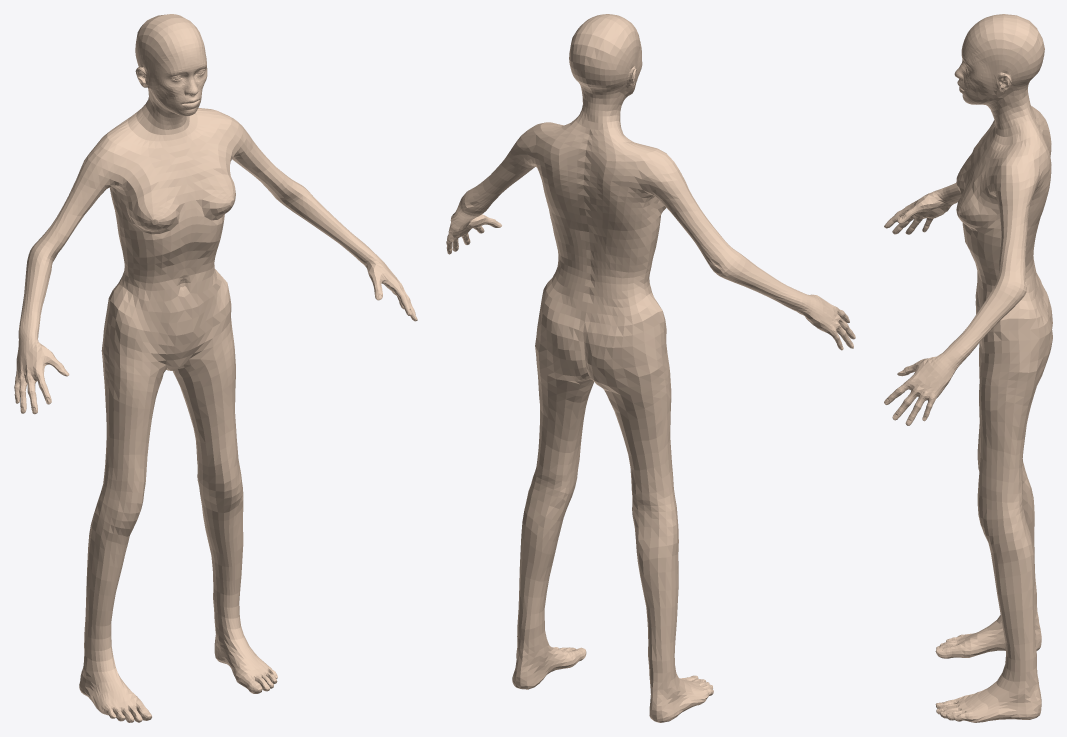
File: female-young-lean-low.glb
3 renders of one model, left to right at view 1: azimuth 30°, elevation 25°; view 2: azimuth 150°, elevation 25°; view 3: azimuth 270°, elevation 25°, orthographic.
Parts seen in each view (by area): view 1: world; view 2: world; view 3: world.
Boxes of the visible parts, <box> form: world: <box>14,14,417,722</box>; world: <box>446,14,855,722</box>; world: <box>884,14,1052,722</box>.
Size of the model in its own units: 1.09 by 1.76 by 0.4031.
